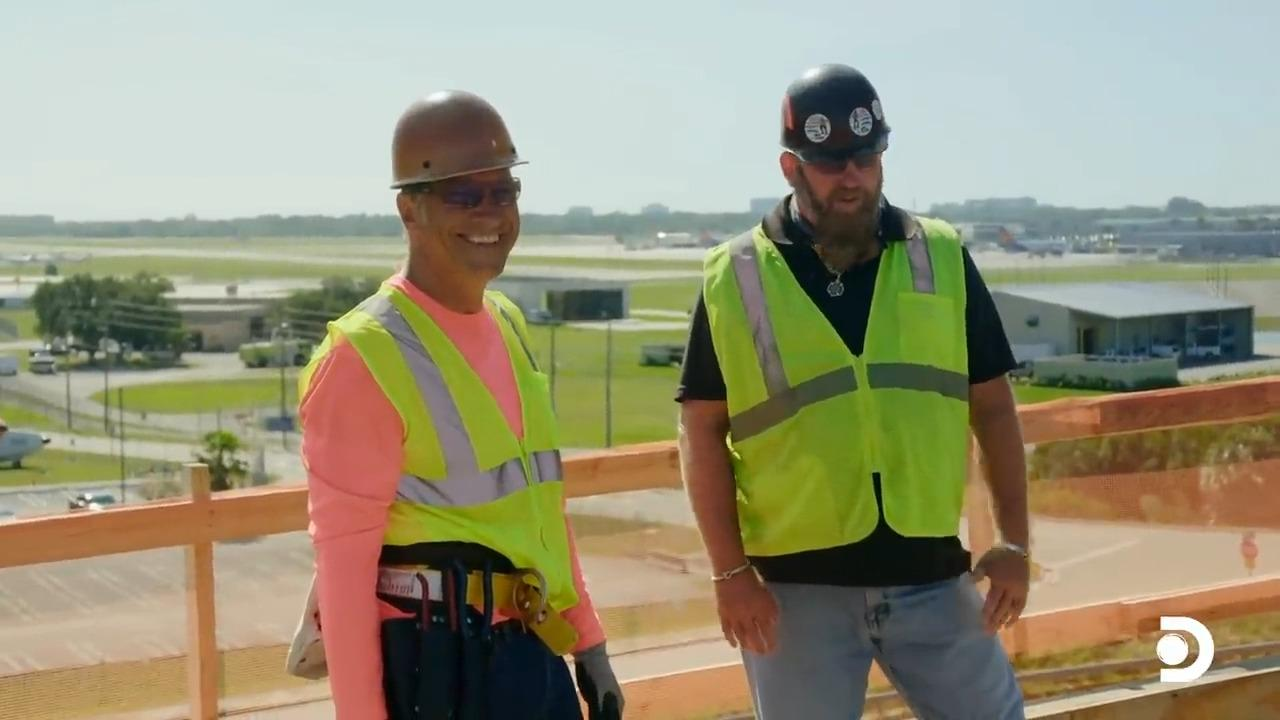Gloves: (566, 643, 619, 720)
Helmet: (388, 88, 528, 189), (778, 62, 890, 165)
Person: (673, 62, 1032, 719), (296, 88, 625, 719)
Safety Vest: (704, 251, 971, 540), (328, 301, 557, 556)
bare-arms: (687, 549, 785, 655), (954, 542, 1039, 629)
